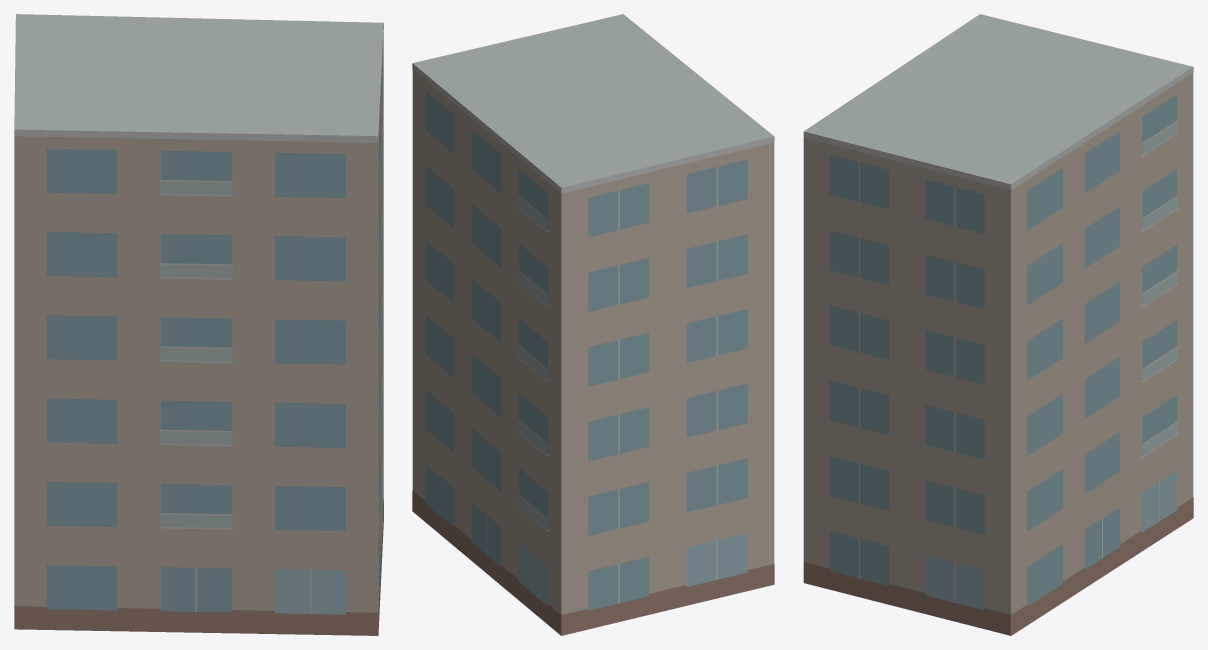
File: survey-upis-32984022.glb
3 renders of one model, left to right at view 1: azimuth 30°, elevation 25°; view 2: azimuth 150°, elevation 25°; view 3: azimuth 270°, elevation 25°, orthographic. The views are drawn at different scales.
Visible parts, largest first — view 1: survey-upis-32984022.tmp; view 2: survey-upis-32984022.tmp; view 3: survey-upis-32984022.tmp.
Boxes of the visible parts, box(x1,y1,x2,y2) form: survey-upis-32984022.tmp: box(14, 14, 383, 635); survey-upis-32984022.tmp: box(412, 14, 774, 635); survey-upis-32984022.tmp: box(803, 14, 1193, 635).
Bounding box in the file's own units: 14.82 × 18.3 × 14.33.
